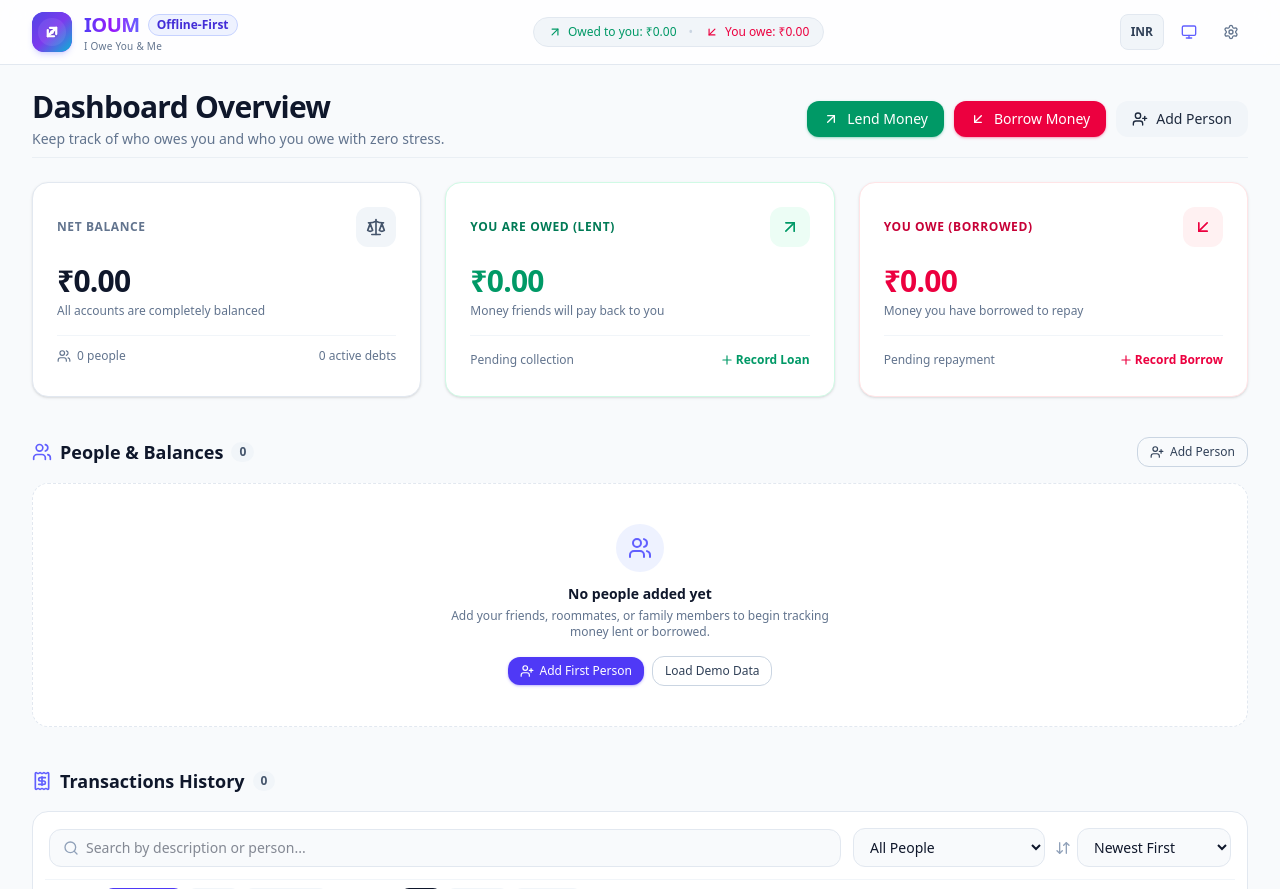
Test case: App End-to-End User Flow › allows recording a transaction with empty description (optional field)
The width and height of the screenshot is (1280, 889).
Check: the heading "Dashboard Overview" is shown, box [32, 86, 330, 127]
Click the button "Lend Money" at point(876, 119), box [807, 101, 944, 137]
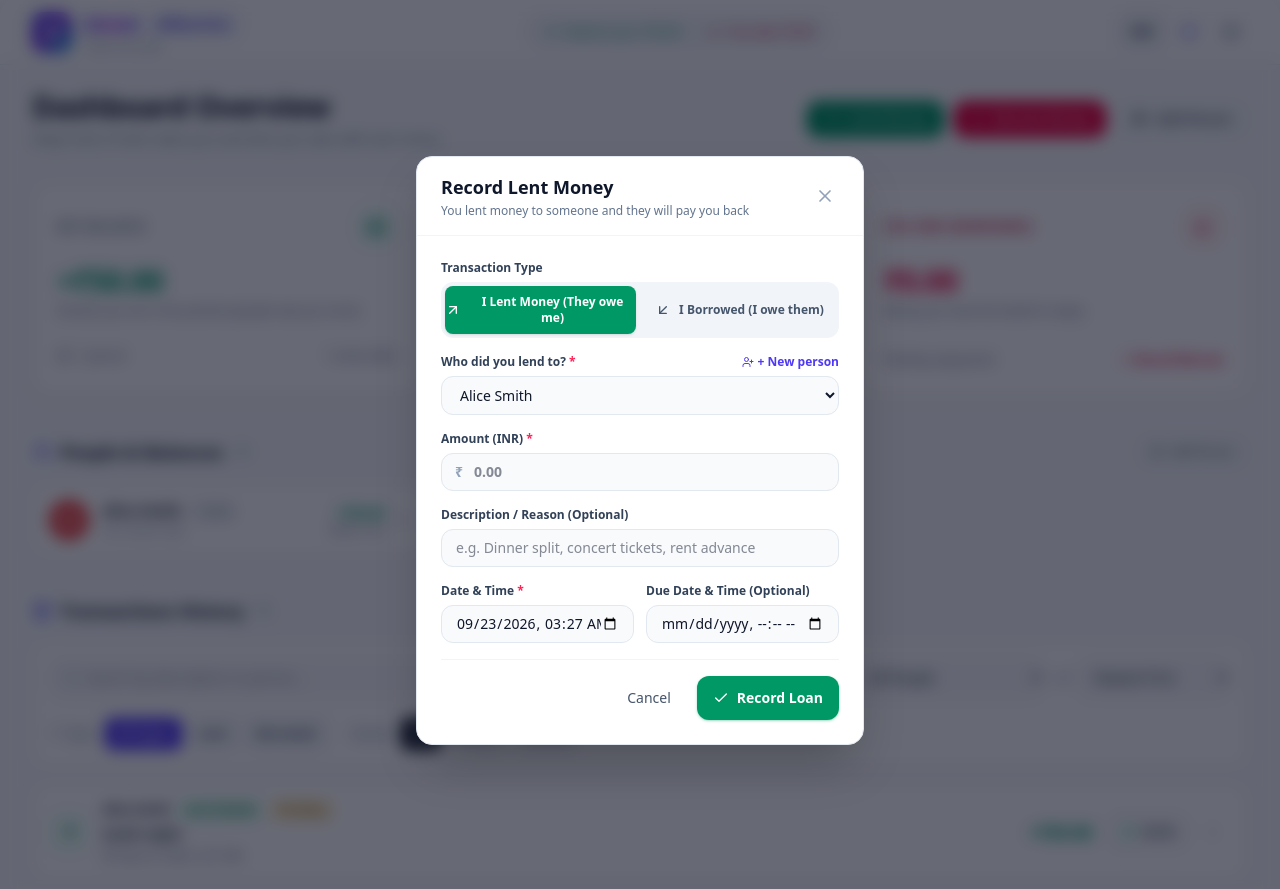
Check: the heading "Record Lent Money" is shown, box [441, 174, 613, 198]
Click the button "+ New person" at point(790, 362), box [742, 354, 839, 370]
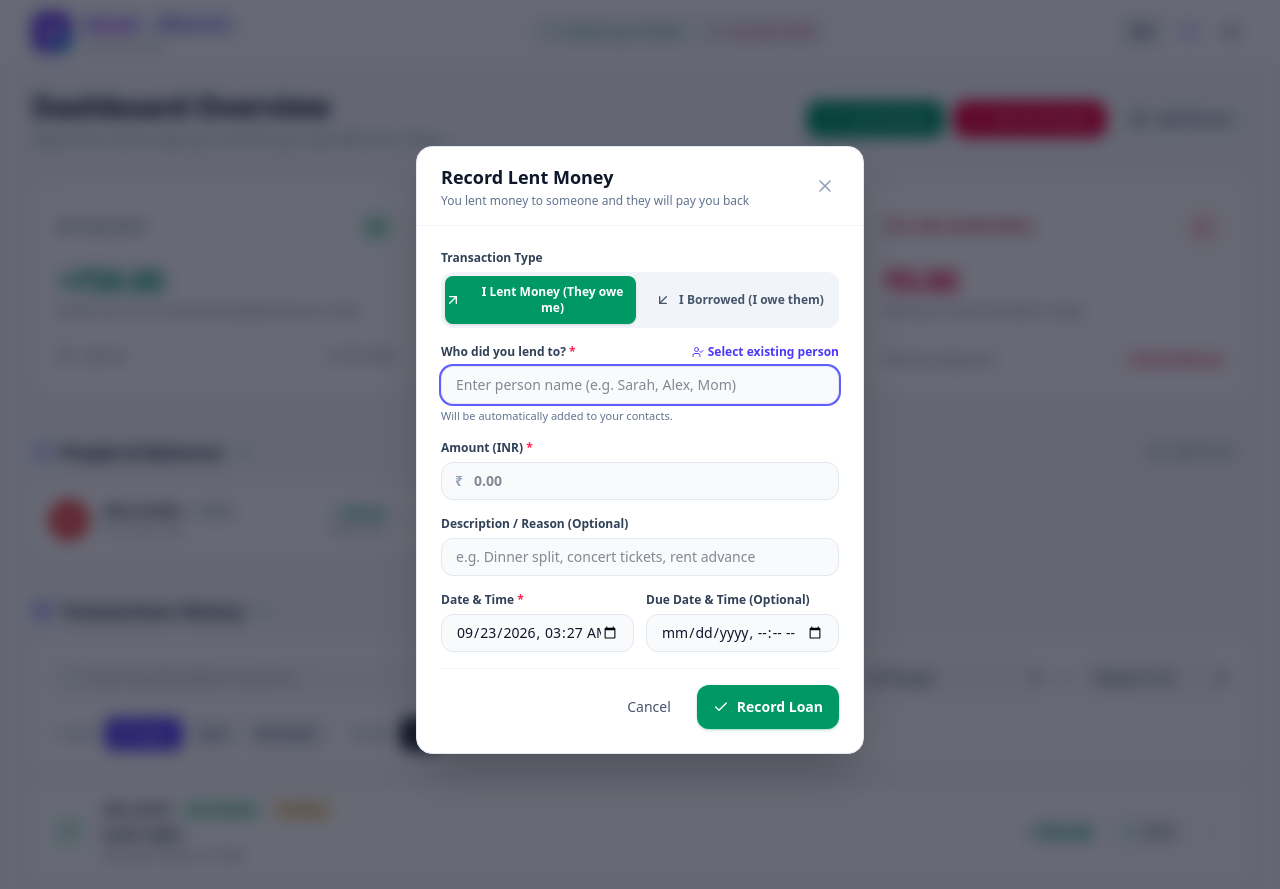
Type "Bob" into the field with placeholder "Enter person name (e.g. Sarah, Alex, Mom)" at point(640, 385), box [441, 366, 839, 404]
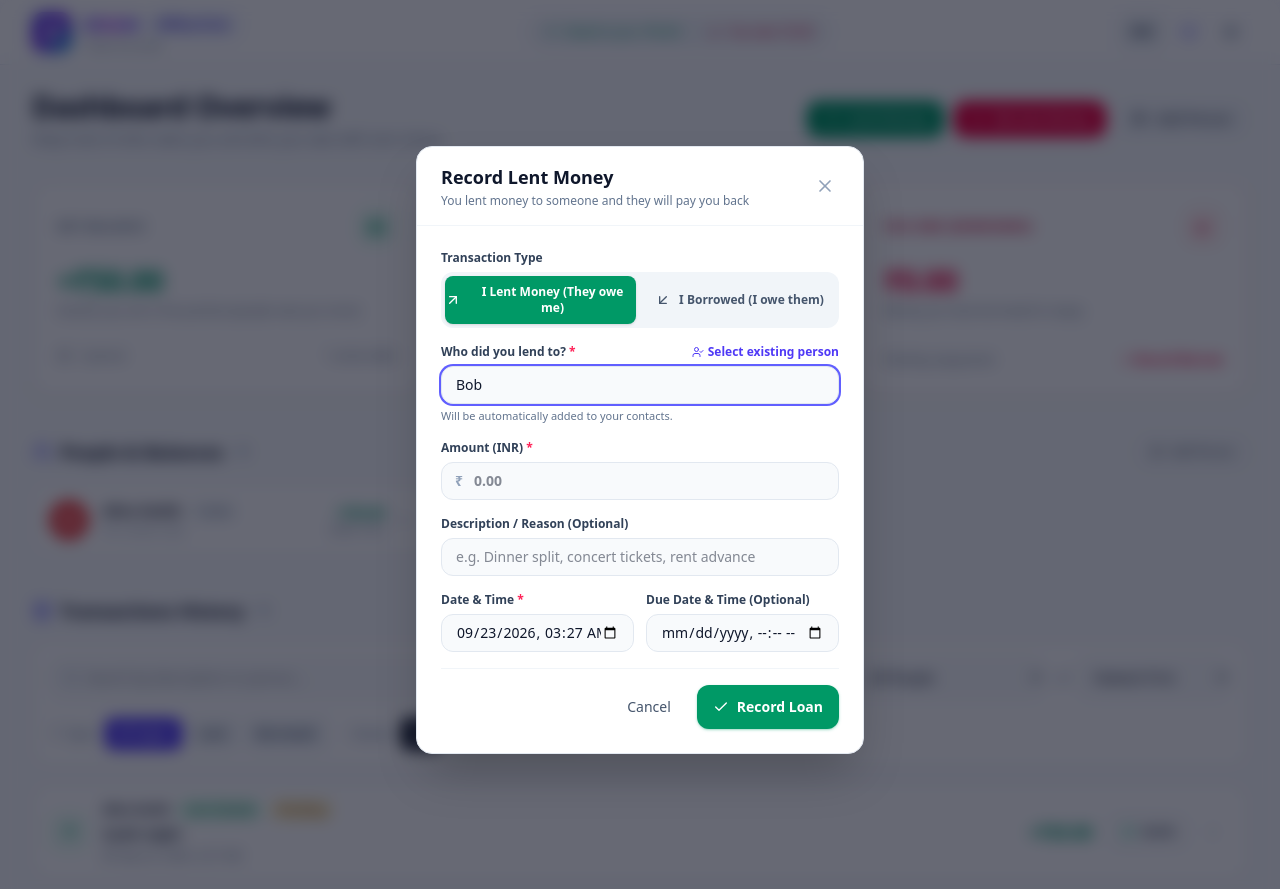
Type "25" into the number field with placeholder "0.00" at point(640, 481), box [441, 462, 839, 500]
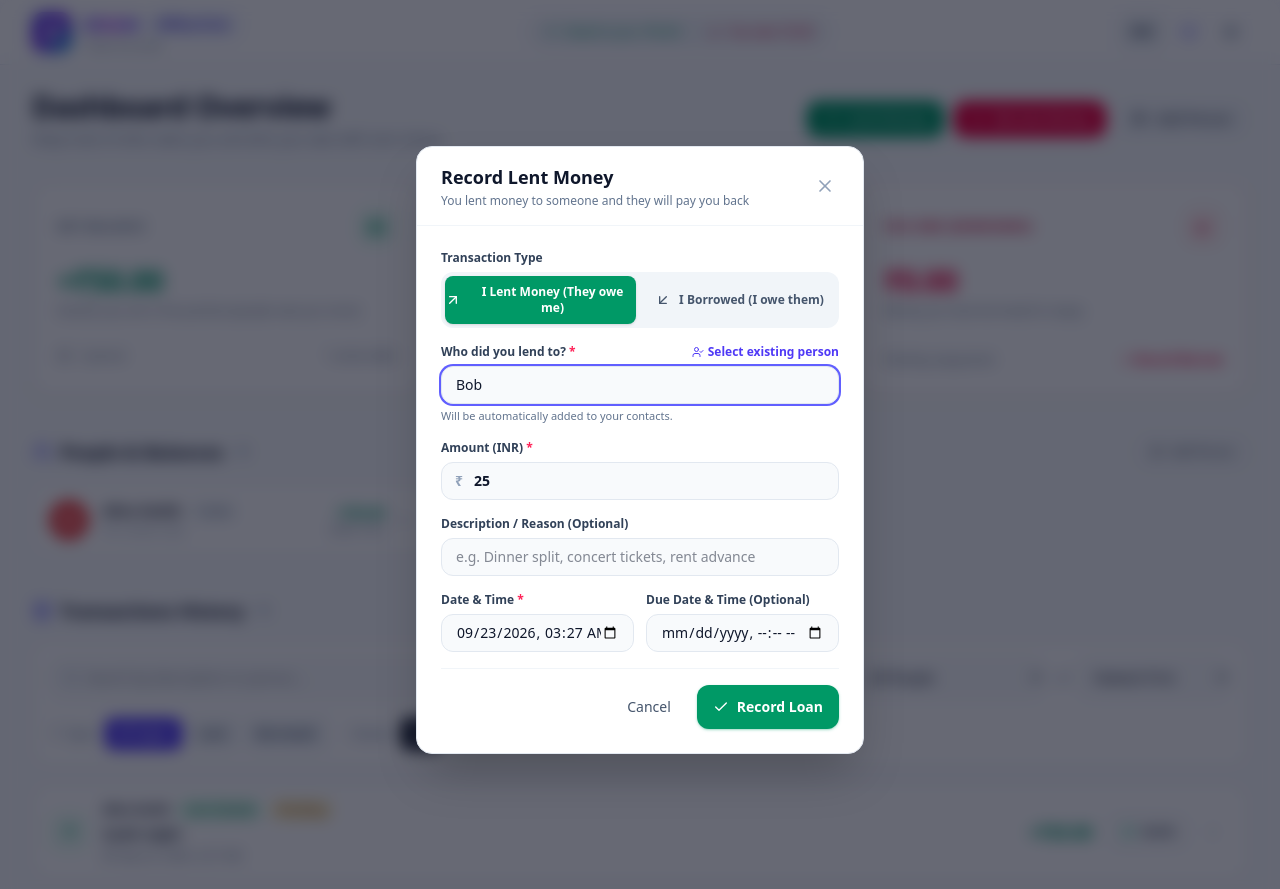
Click the submit button at point(768, 707), box [697, 685, 839, 729]
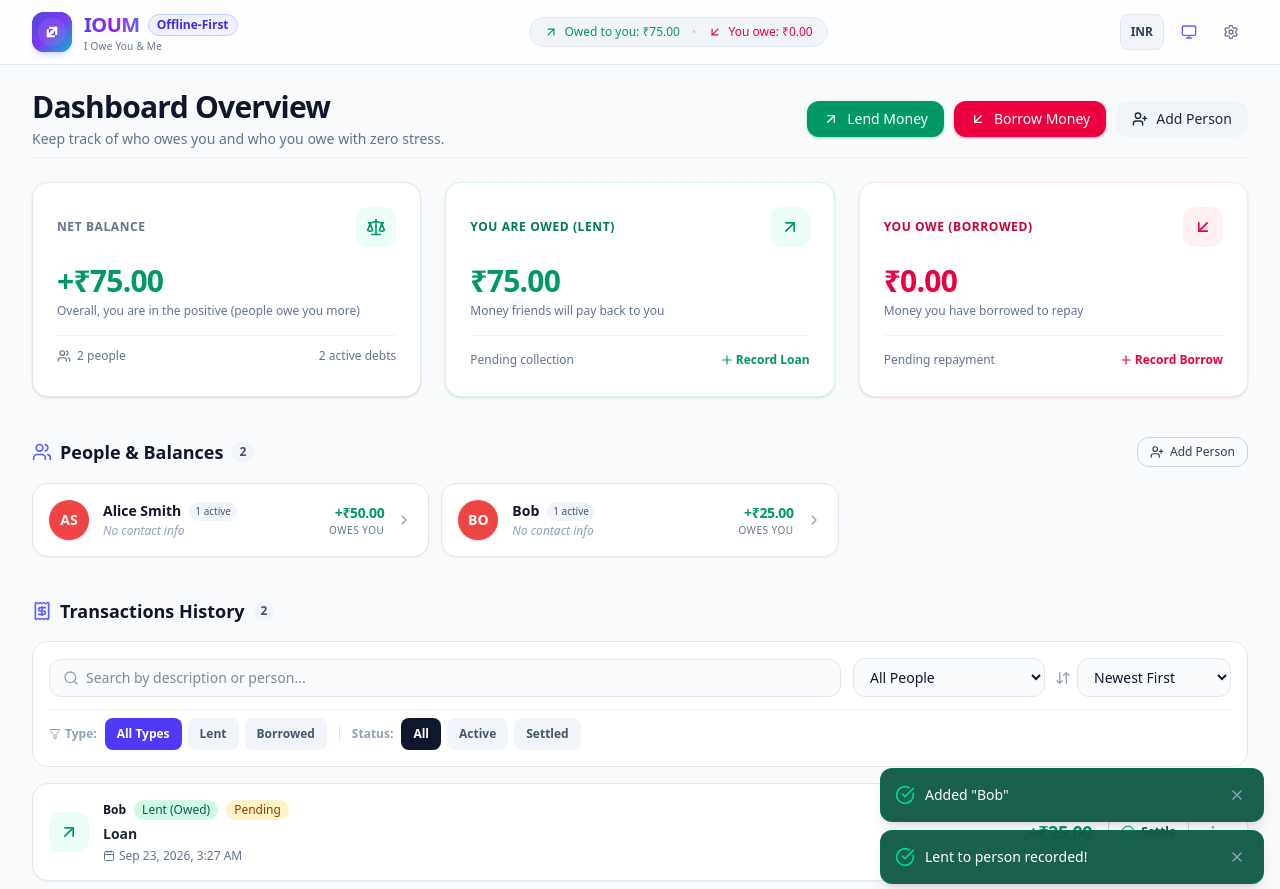
Check: the text "Owed to you: ₹75.00" is shown, box [564, 24, 680, 40]
